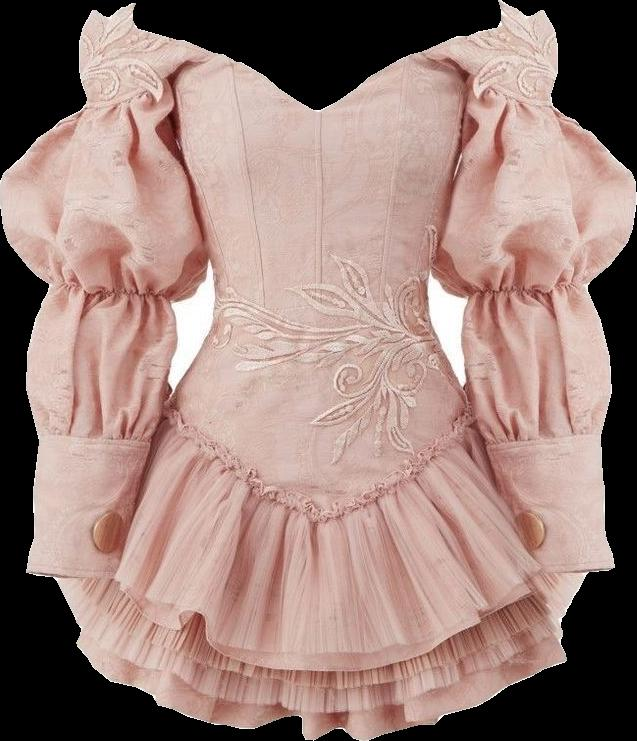Bodice: (168, 51, 471, 522)
Hemline: (51, 571, 568, 740), (77, 545, 581, 679)
Neckline: (171, 48, 473, 117)
Skirt: (52, 406, 587, 740)
Sleeve: (0, 2, 221, 581), (427, 0, 635, 573)
Sleeveline: (85, 47, 475, 109), (47, 275, 177, 300), (488, 429, 601, 455), (466, 276, 588, 297), (466, 76, 552, 104), (167, 46, 226, 86), (38, 428, 155, 447)
Waistline: (162, 406, 471, 527)
